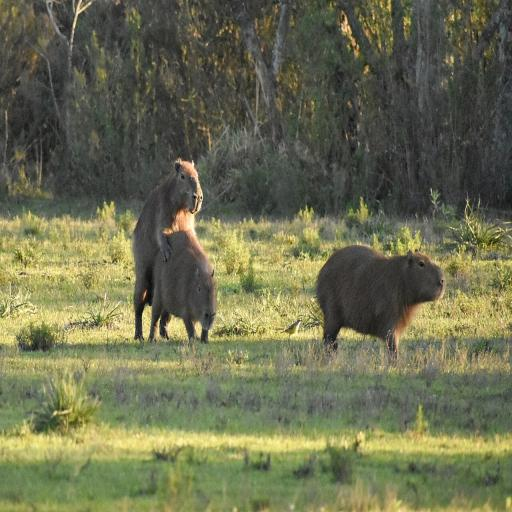capybara: (317, 246, 445, 360), (133, 159, 202, 340), (150, 231, 216, 343)
